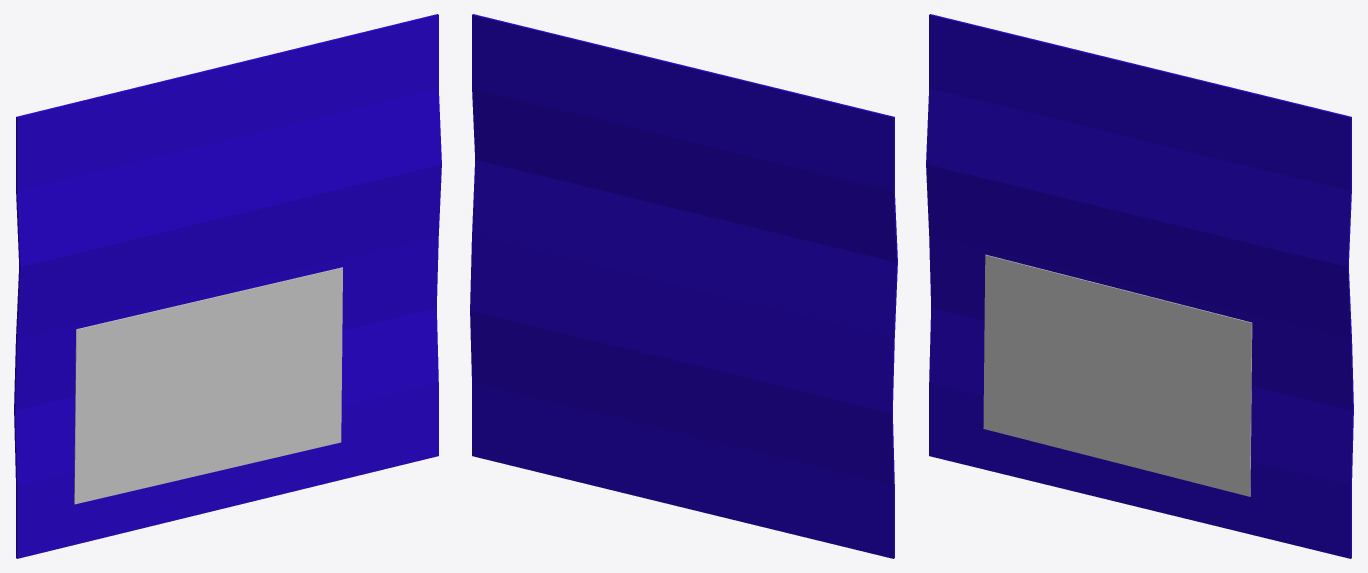
Rendered from sign.glb.
The picture shows the model from 3 angles, left to right: view 1: azimuth 30°, elevation 25°; view 2: azimuth 150°, elevation 25°; view 3: azimuth 330°, elevation 25°; orthographic projection.
Parts seen in each view (by area): view 1: Plane.004, Plane.005; view 2: Plane.004; view 3: Plane.004, Plane.005.
Boxes of the visible parts, box(x1,y1,x2,y2) form: Plane.004: box(14, 14, 441, 558); Plane.005: box(74, 267, 342, 504); Plane.004: box(470, 14, 897, 558); Plane.004: box(926, 14, 1353, 558); Plane.005: box(983, 254, 1252, 496).
Size of the model in its own units: 5.06 by 5.06 by 0.1324.
